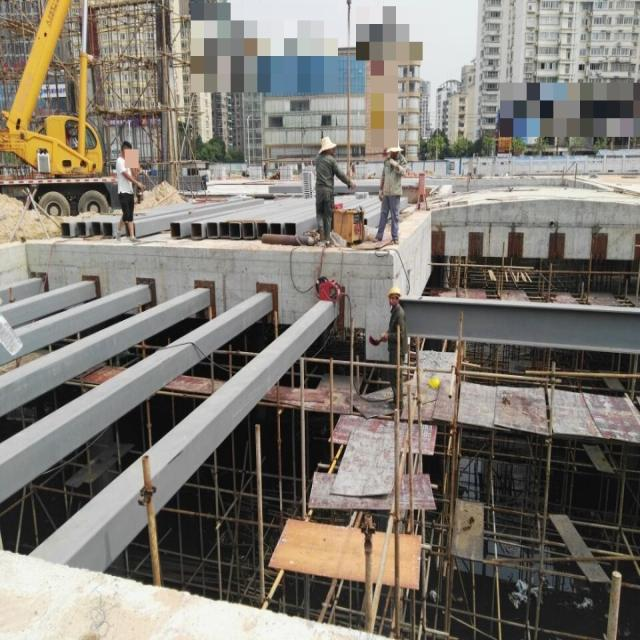crane: (0, 0, 121, 216)
